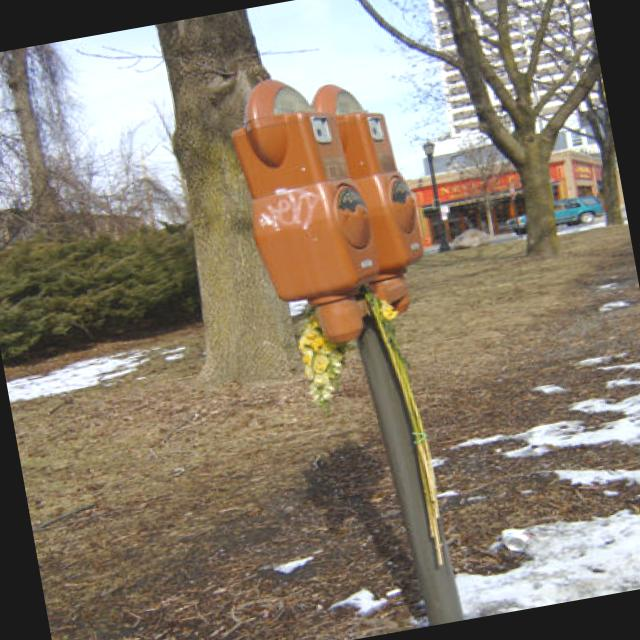Vehicle: (505, 193, 607, 237)
